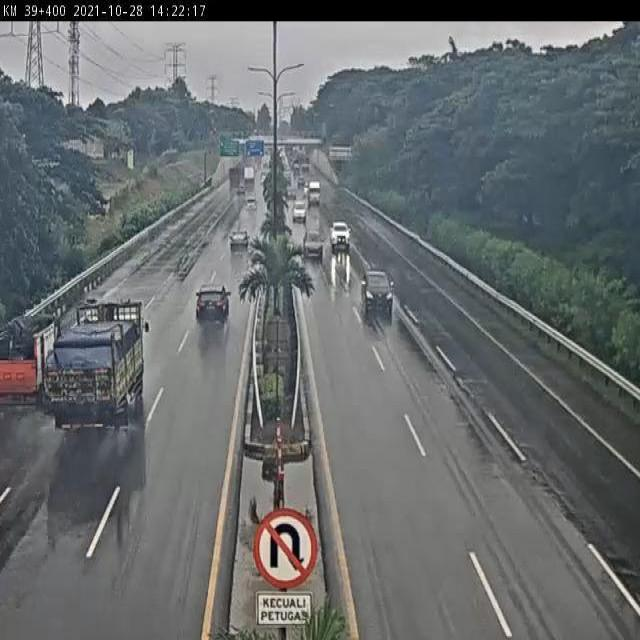car: (357, 264, 396, 317), (191, 281, 231, 328), (301, 227, 326, 261), (328, 218, 352, 250), (229, 228, 250, 256)
small truck: (0, 316, 61, 417)
truck-l-: (47, 300, 149, 428)
